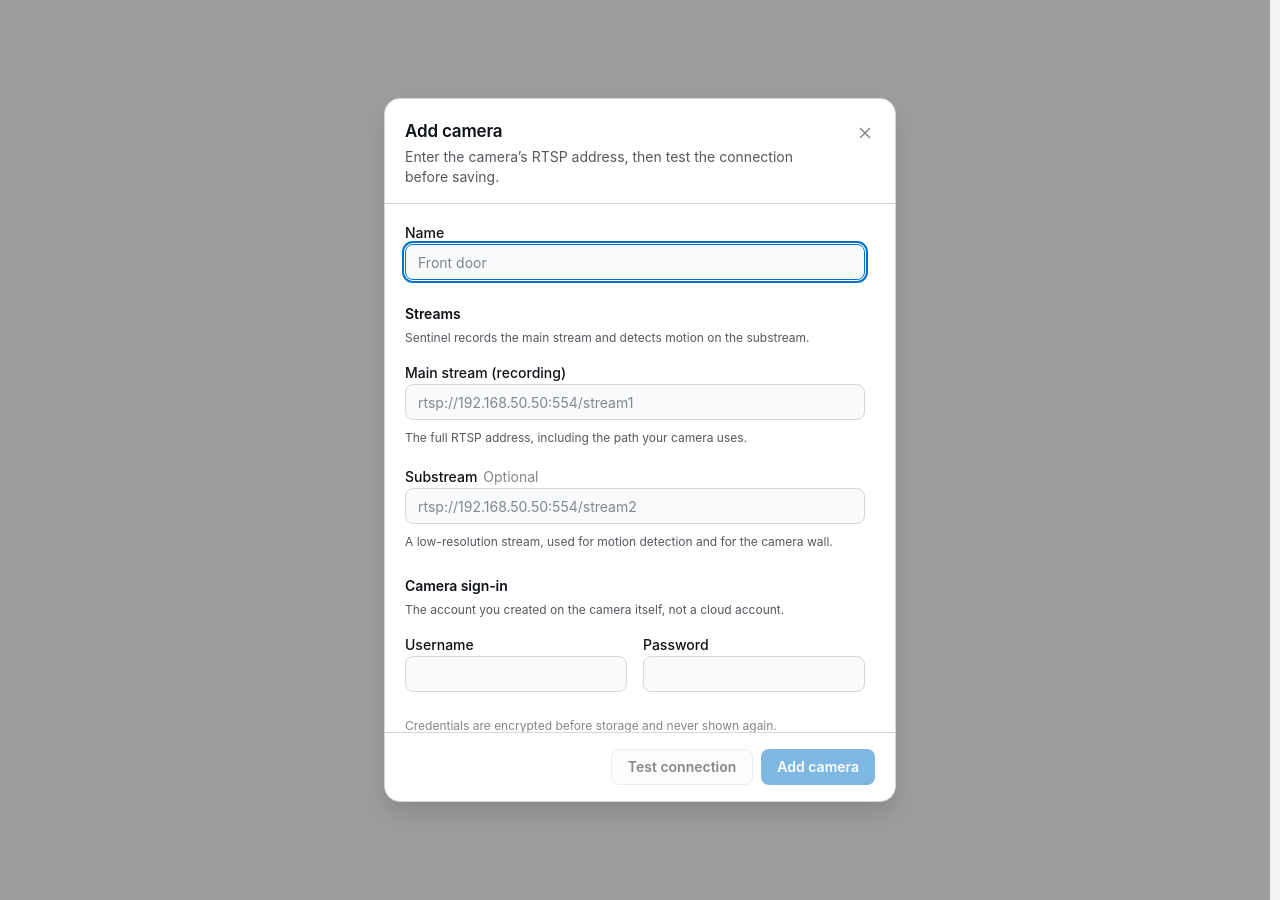
Test: AddCameraDialog › warns when the codec would force re-encoding
In the field labelled "Main stream (recording)": point(635, 402) [405, 384, 865, 420], type "rtsp://10.0.0.5/s1"
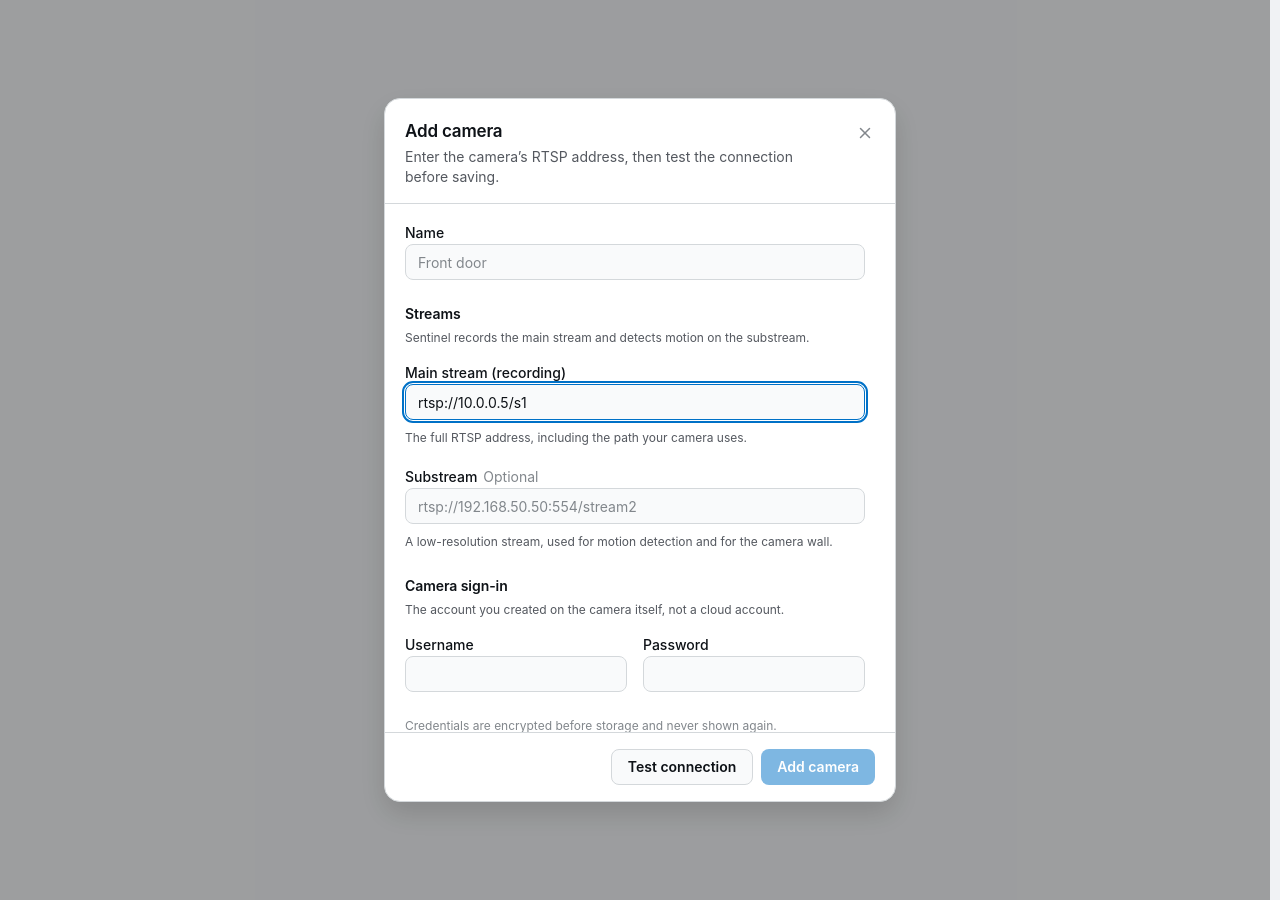
Click the button "Test connection": point(682, 767) [611, 749, 753, 785]
(page scrolled)
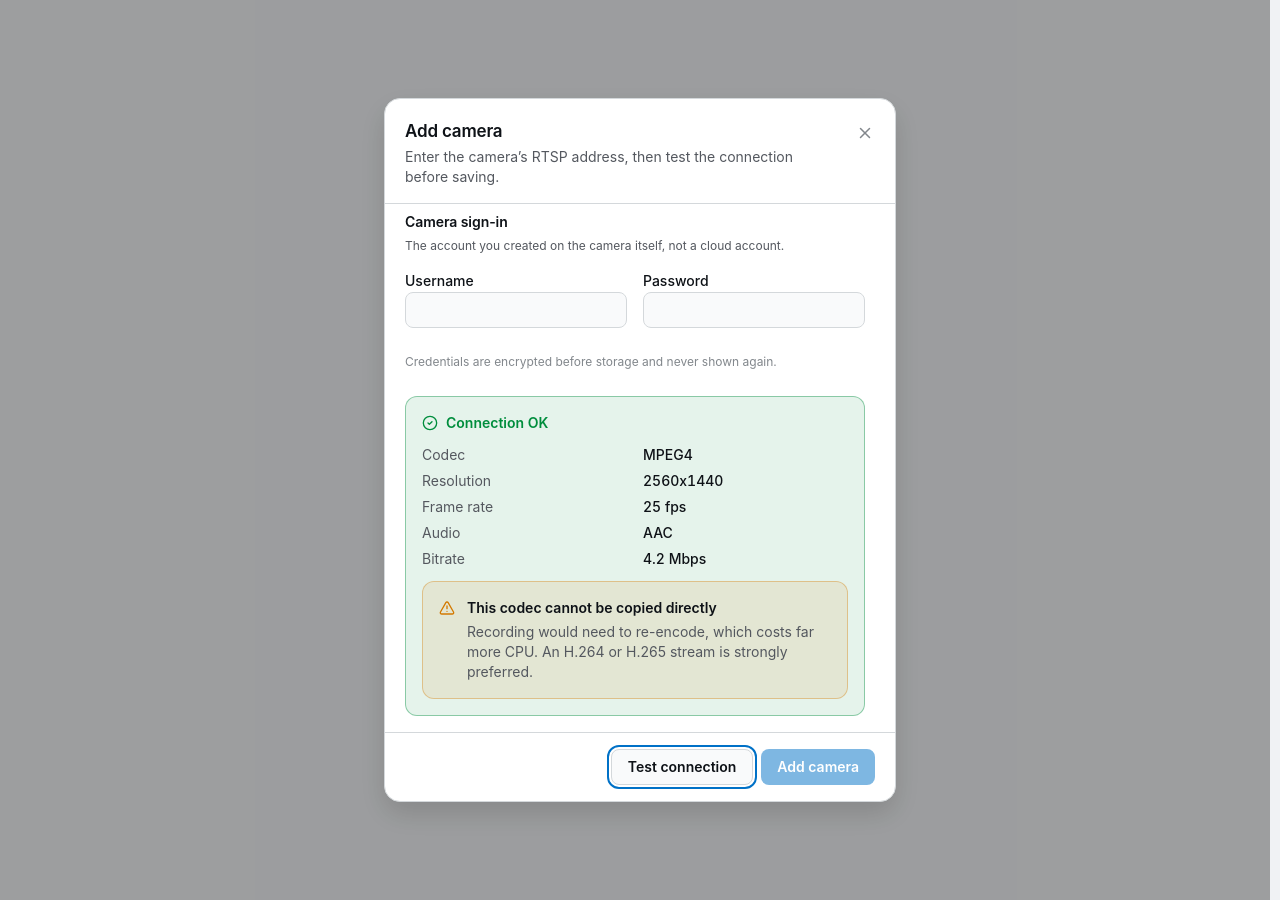
Result: the text "This codec cannot be copied directly" is shown at [467, 599, 717, 616]
